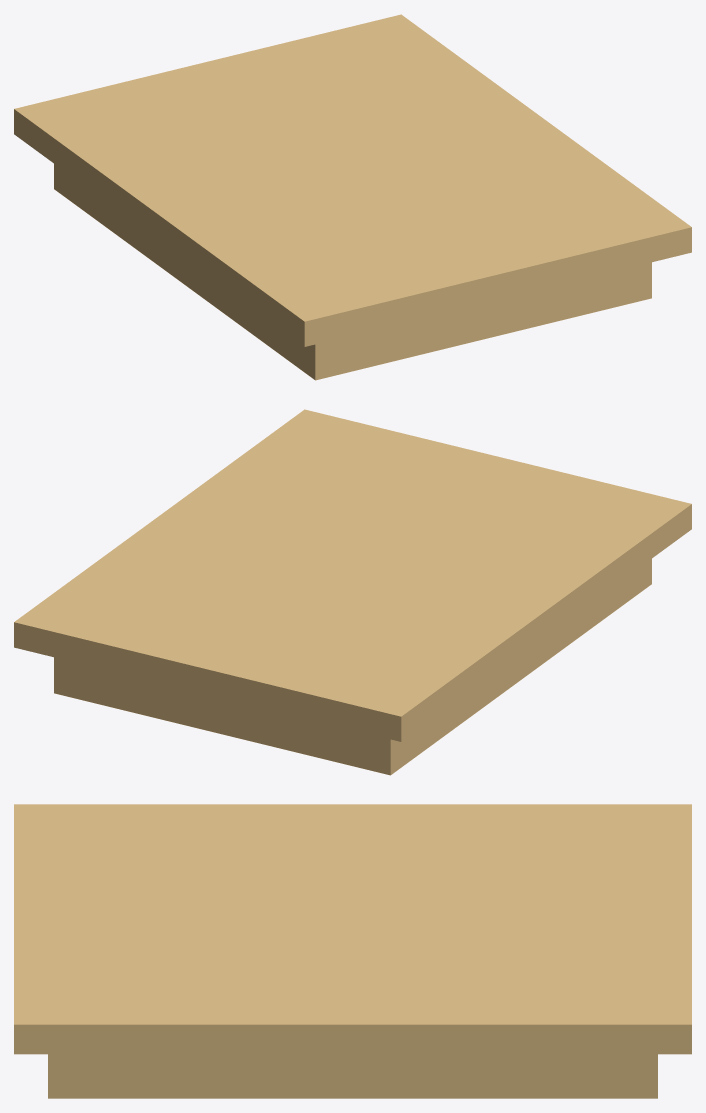
The model's file is Industrial_New_Floor_Plain.fbx.
The picture shows the model from 3 angles, top to bottom: view 1: azimuth 30°, elevation 25°; view 2: azimuth 150°, elevation 25°; view 3: azimuth 270°, elevation 25°; orthographic projection. The views are drawn at different scales.
Parts seen in each view (by area): view 1: Cylinder.003; view 2: Cylinder.003; view 3: Cylinder.003.
Part boxes in pixels (x1,y1,x2,y2): Cylinder.003: (14, 14, 691, 380); Cylinder.003: (14, 409, 691, 775); Cylinder.003: (14, 804, 691, 1098).
Bounding box in the file's own units: 200 × 37.34 × 260.
